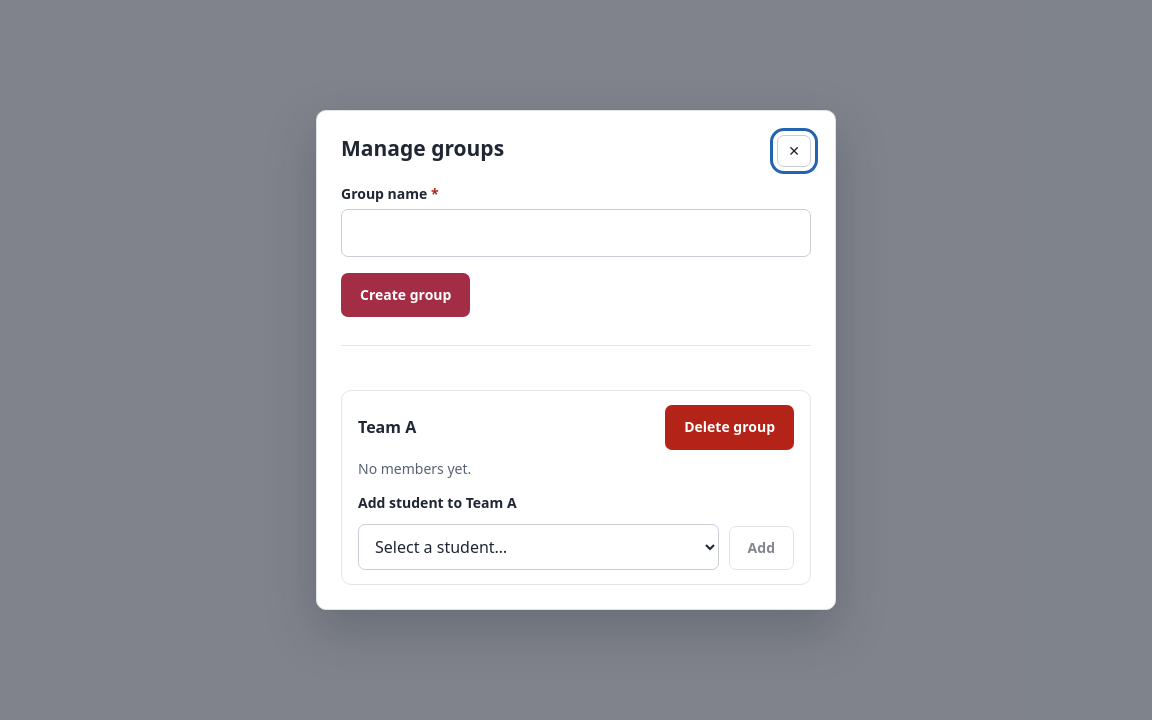
Scenario: ManageGroupsModal › deletes a group after confirmation and reloads the list
Expected: the heading "Team A" is shown, [358, 415, 416, 440]
Click the button "Delete group". click: (730, 428)
box: [665, 405, 794, 450]
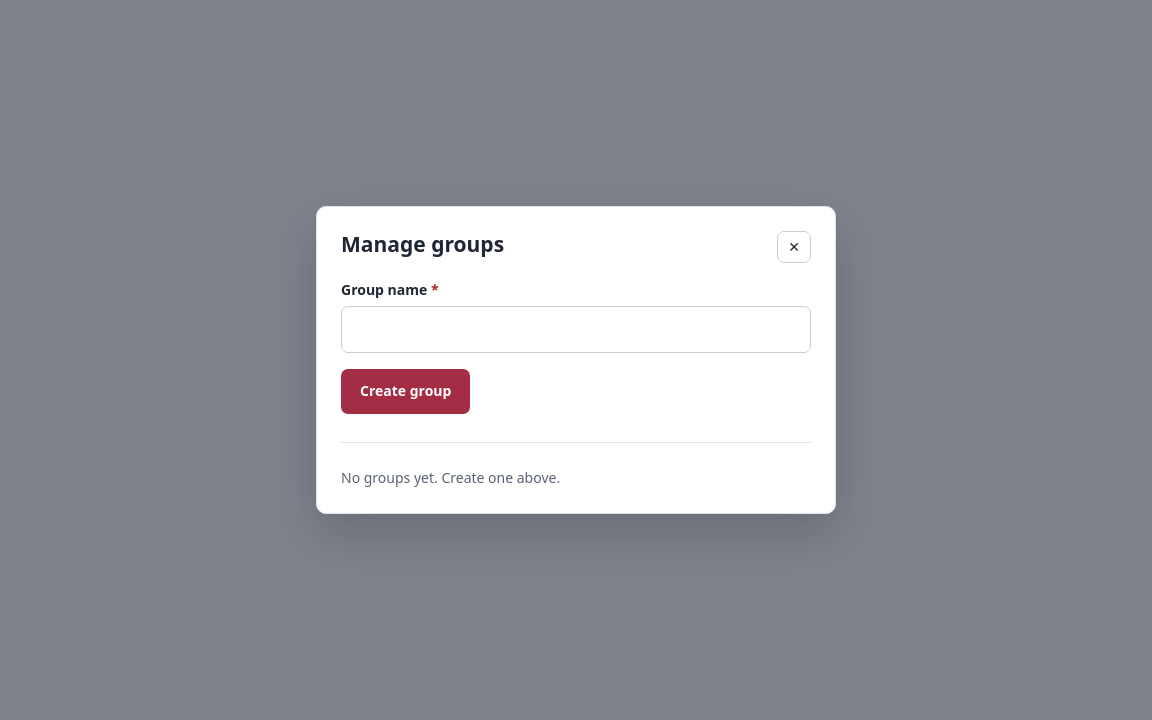
Expected: the text "No groups yet. Create one above." is shown, [341, 468, 560, 487]
